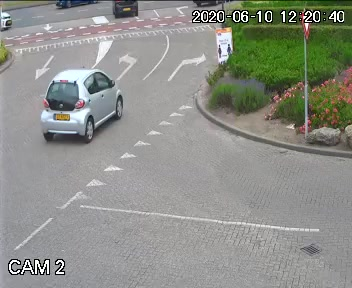car: (28, 67, 133, 144), (112, 0, 140, 22)
